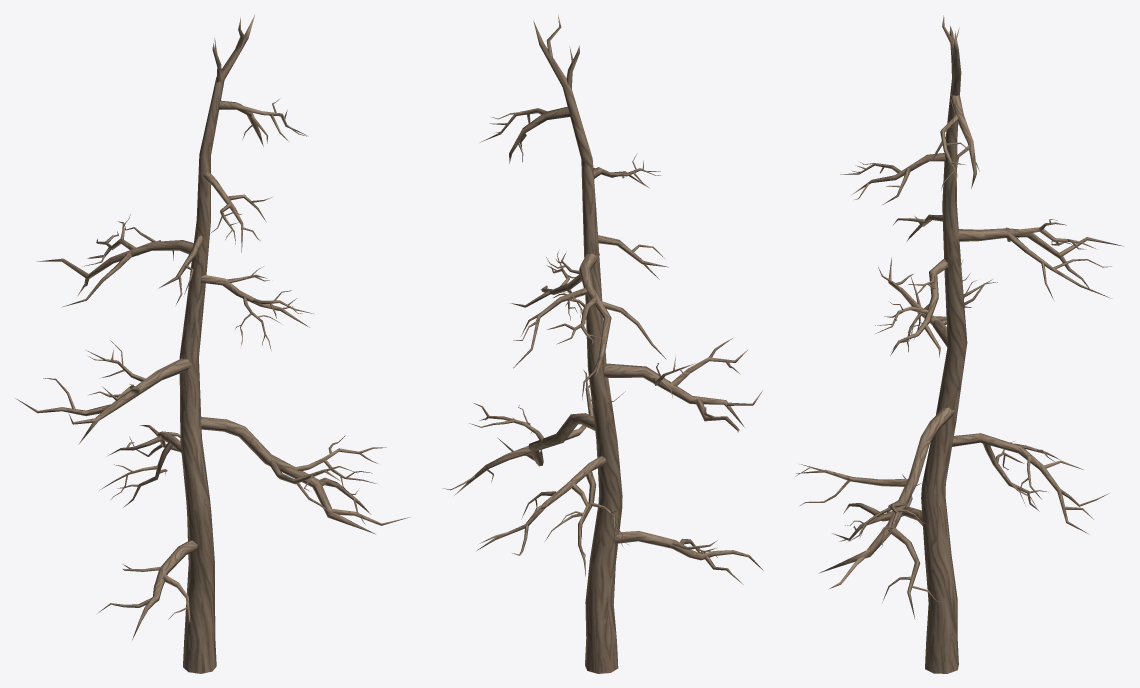
File: P_PineDead01_Snowy.obj
The picture shows the model from 3 angles, left to right: view 1: azimuth 30°, elevation 25°; view 2: azimuth 150°, elevation 25°; view 3: azimuth 270°, elevation 25°; orthographic projection. The views are drawn at different scales.
Bounding box in the file's own units: 8.4 × 16.03 × 7.16.
